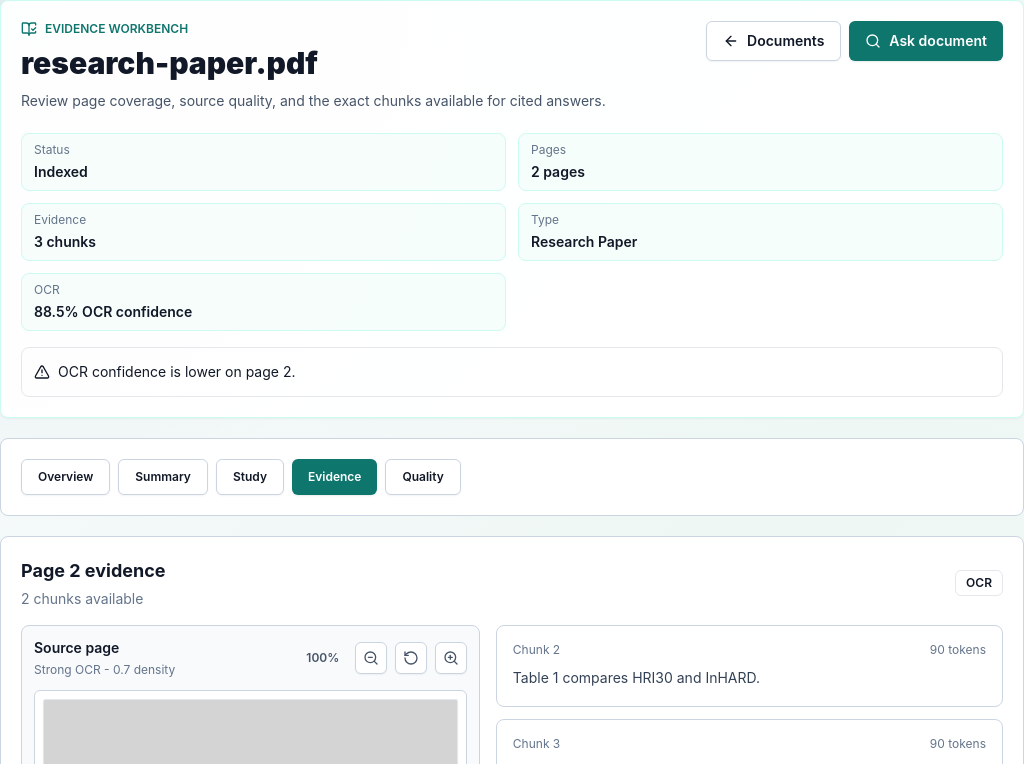
Scenario: DocumentWorkbench › lets reviewers zoom the selected page preview
Check: the text "100%" is shown, box top-left (306, 650), bottom-right (339, 665)
Click the button named "Zoom in page preview". click: [451, 658]
box: top-left (435, 642), bottom-right (467, 674)
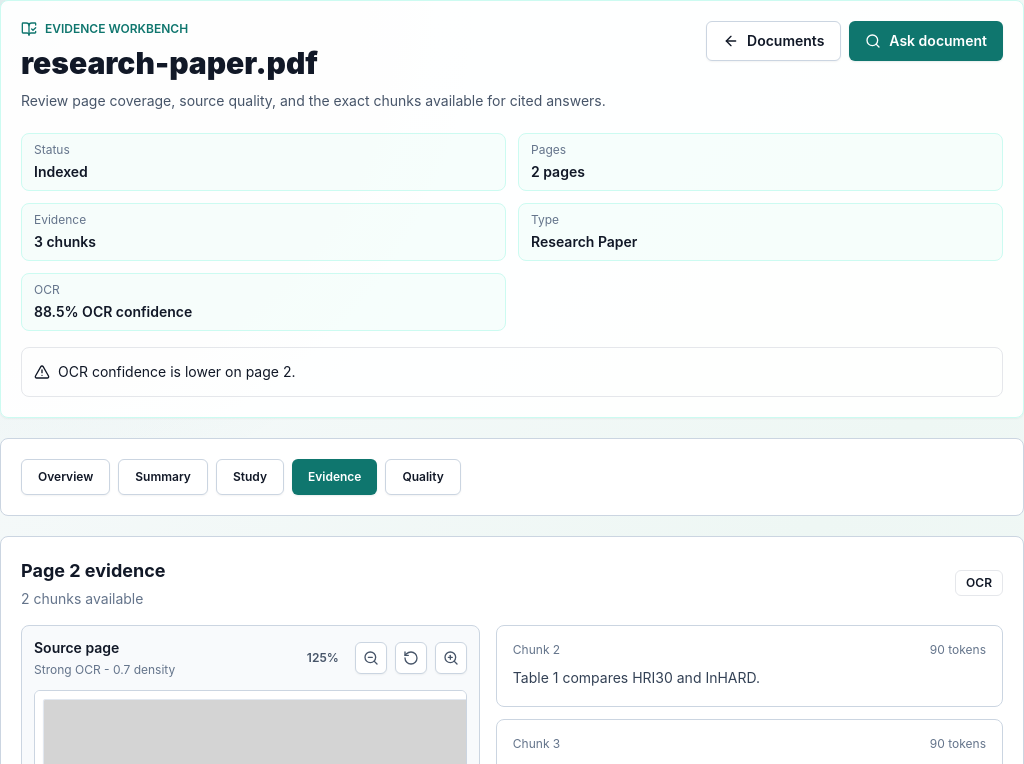
Check: the text "125%" is shown, box top-left (307, 650), bottom-right (339, 665)
Click the button named "Reset page preview zoom". click: [411, 658]
box: top-left (395, 642), bottom-right (427, 674)
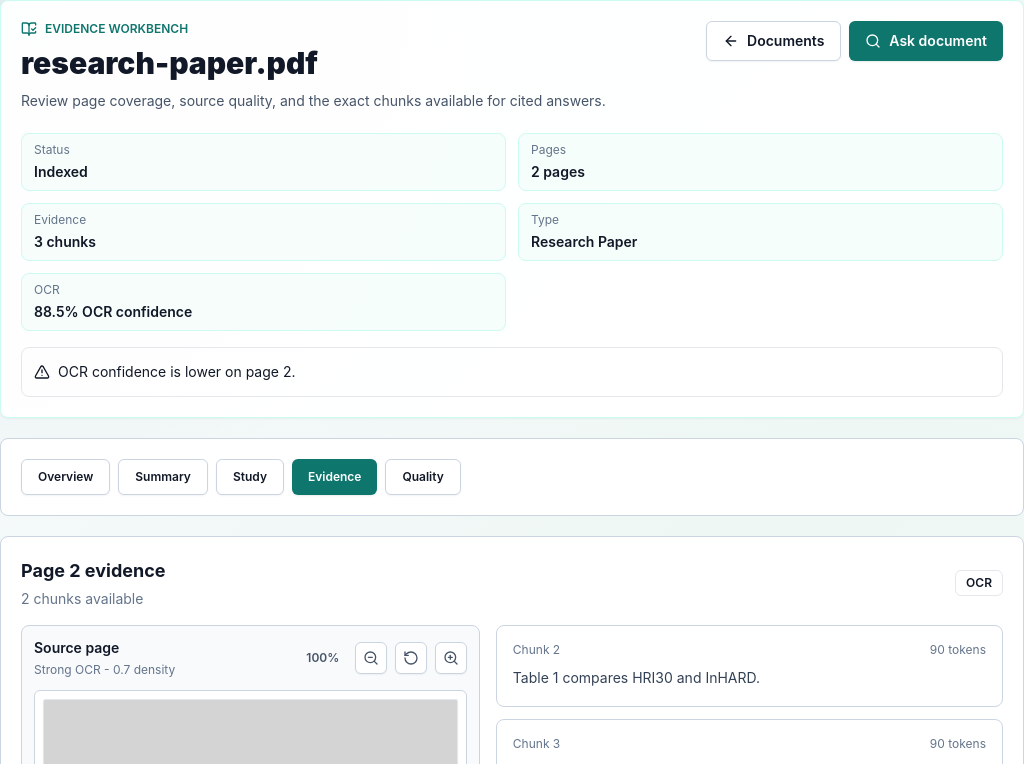
Check: the text "100%" is shown, box top-left (306, 650), bottom-right (339, 665)
